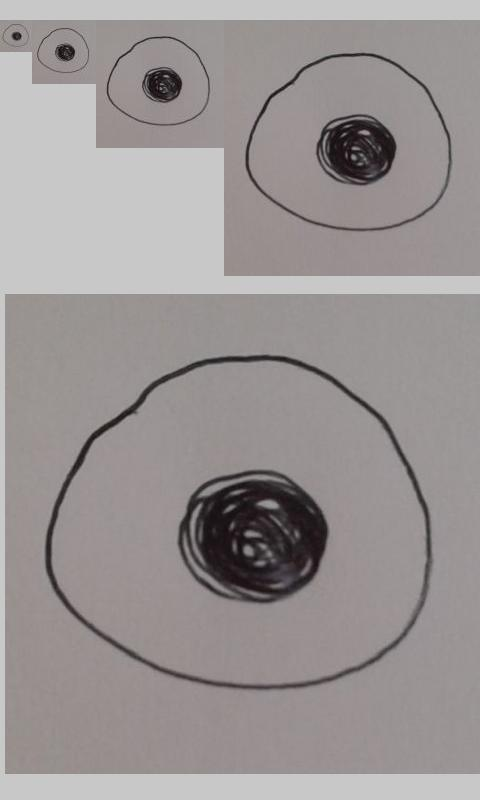radio_button: (42, 351, 436, 695), (243, 48, 455, 236), (106, 35, 211, 127), (36, 27, 91, 74), (2, 23, 30, 48)
